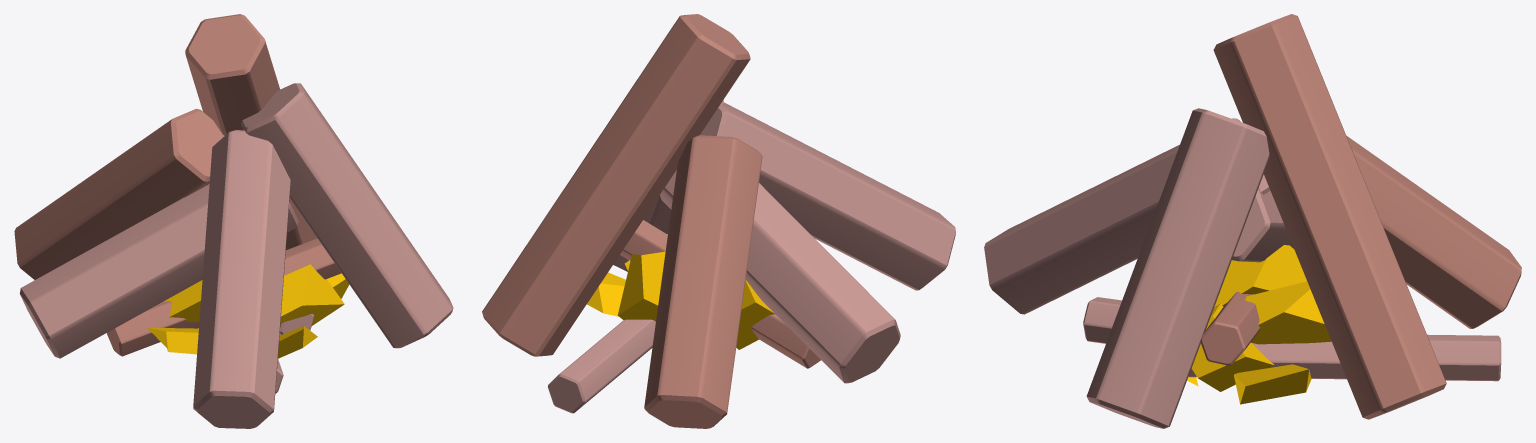
The model's file is campfire_logs_v1.fbx.
3 renders of one model, left to right at view 1: azimuth 30°, elevation 25°; view 2: azimuth 150°, elevation 25°; view 3: azimuth 270°, elevation 25°, orthographic. The views are drawn at different scales.
Parts seen in each view (by area): view 1: fire_log_3, fire_log_4, fire_log_2, fire_log_1, fire_log_5, fire_log_7, fire_3, fire_7, fire_4, fire_2; view 2: fire_log_5, fire_log_1, fire_log_3, fire_log_2, fire_log_6, fire_log_7, fire_6, fire_4, fire_5, fire_log_4; view 3: fire_log_5, fire_log_4, fire_log_3, fire_log_1, fire_log_6, fire_6, fire_4, fire_log_7, fire_log_2, fire_5, fire_3, fire_log_8.
Boxes of the visible parts, <box> form: fire_log_3: <box>193,130,290,428</box>; fire_log_4: <box>241,83,453,348</box>; fire_log_2: <box>19,184,298,358</box>; fire_log_1: <box>14,108,224,279</box>; fire_log_5: <box>185,14,317,249</box>; fire_log_7: <box>107,238,341,356</box>; fire_3: <box>280,264,344,325</box>; fire_7: <box>147,327,198,354</box>; fire_4: <box>163,280,202,328</box>; fire_2: <box>278,326,317,358</box>; fire_log_5: <box>482,14,750,356</box>; fire_log_1: <box>644,135,762,428</box>; fire_log_3: <box>700,102,955,290</box>; fire_log_2: <box>660,170,900,383</box>; fire_log_6: <box>548,319,655,413</box>; fire_log_7: <box>620,220,820,368</box>; fire_6: <box>617,251,665,321</box>; fire_4: <box>736,280,774,349</box>; fire_5: <box>587,272,625,316</box>; fire_log_4: <box>613,100,723,271</box>; fire_log_5: <box>1213,14,1446,419</box>; fire_log_4: <box>1086,108,1269,428</box>; fire_log_3: <box>984,118,1270,314</box>; fire_log_1: <box>1346,135,1521,328</box>; fire_log_6: <box>1188,334,1501,381</box>; fire_6: <box>1245,281,1331,344</box>; fire_4: <box>1214,245,1306,306</box>; fire_log_7: <box>1200,292,1259,365</box>; fire_log_2: <box>1232,187,1293,262</box>; fire_5: <box>1234,364,1311,404</box>; fire_3: <box>1191,303,1274,391</box>; fire_log_8: <box>1083,297,1121,343</box>.
Size of the model in its own units: 1.47 by 1.24 by 1.72.
